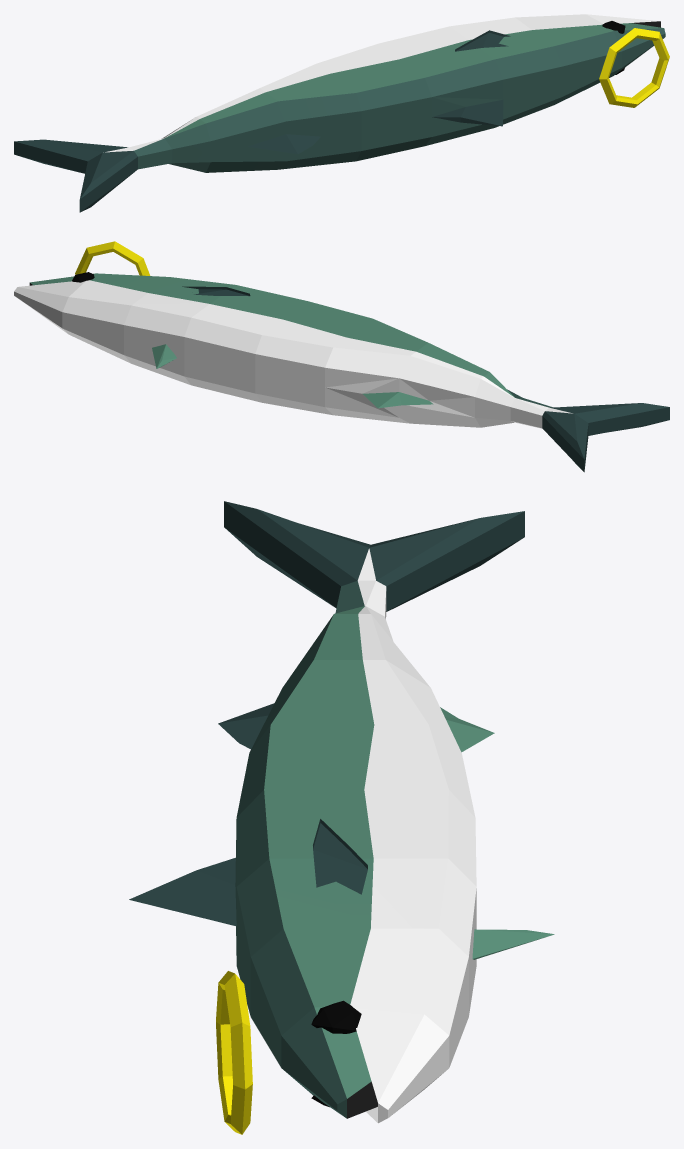
The model's file is MackerelShiny.glb.
3 renders of one model, top to bottom at view 1: azimuth 30°, elevation 25°; view 2: azimuth 150°, elevation 25°; view 3: azimuth 270°, elevation 25°, orthographic. The views are drawn at different scales.
Parts seen in each view (by area): view 1: MackerelShiny; view 2: MackerelShiny; view 3: MackerelShiny.
Part boxes in pixels (box(x1,y1,x2,y2)): MackerelShiny: box(14, 14, 669, 212); MackerelShiny: box(14, 241, 669, 472); MackerelShiny: box(129, 501, 554, 1134).
Size of the model in its own units: 0.7587 by 0.0966 by 0.228.
1 material, 1 textured.
